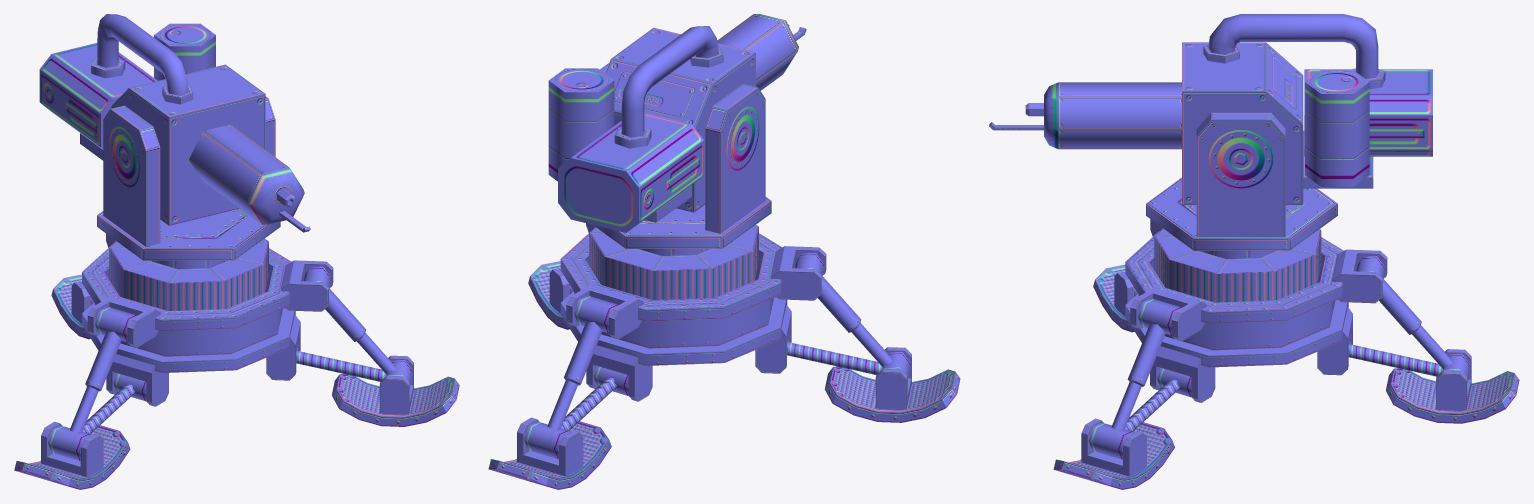
The model's file is TP1_FlameThrower.FBX.
3 views of the same model, side by side, from view 1: azimuth 30°, elevation 25°; view 2: azimuth 150°, elevation 25°; view 3: azimuth 270°, elevation 25° (orthographic). The views are drawn at different scales.
Parts seen in each view (by area): view 1: TP1_FlameThrower; view 2: TP1_FlameThrower; view 3: TP1_FlameThrower.
Boxes of the visible parts, box(x1,y1,x2,y2) form: TP1_FlameThrower: box(14, 14, 459, 489); TP1_FlameThrower: box(488, 14, 960, 489); TP1_FlameThrower: box(989, 14, 1519, 489).
Size of the model in its own units: 134 by 109 by 141.
